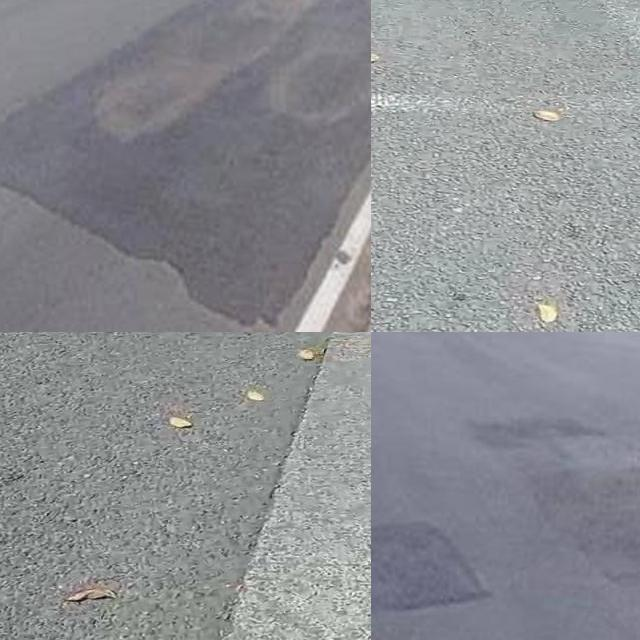Sambungan: (0, 0, 371, 332), (209, 332, 371, 640), (371, 523, 497, 622)
